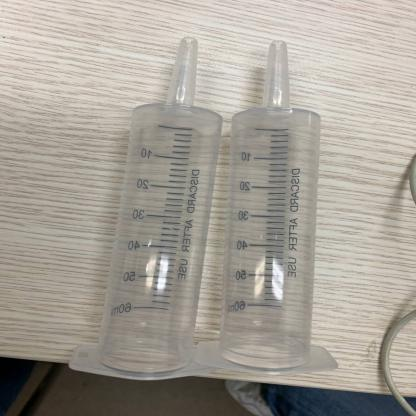dry: (82, 31, 216, 375), (220, 37, 338, 375)
